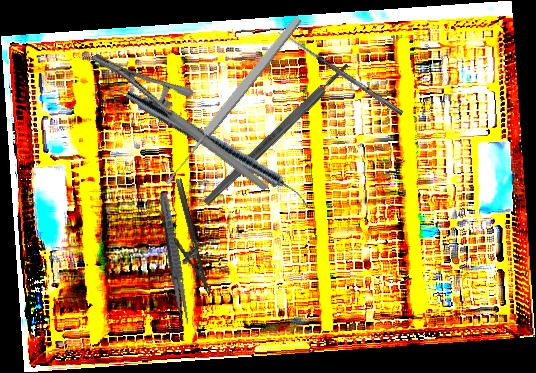Dressing Forceps: (156, 191, 193, 326)
Handpiece: (121, 87, 316, 210)
Needle Holder: (88, 13, 271, 232), (160, 177, 211, 299)
Scalpel Handle: (201, 61, 352, 207)
Surgical Spoon: (161, 14, 304, 187), (277, 28, 405, 116)
